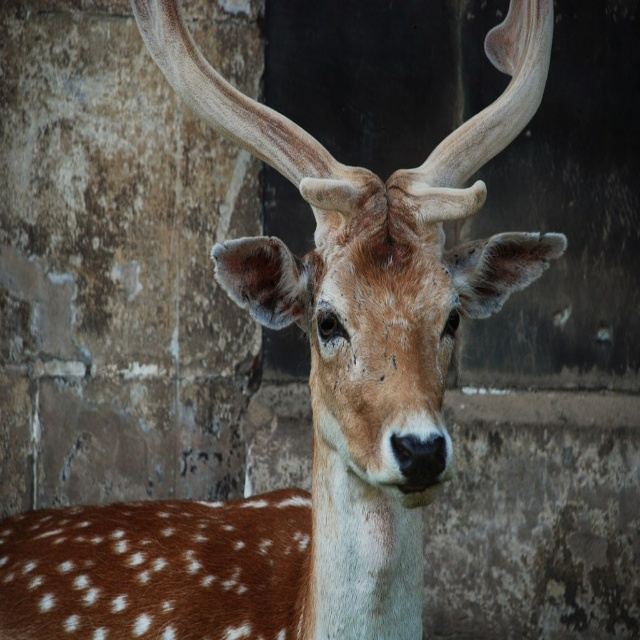Deer: (0, 3, 564, 639)
